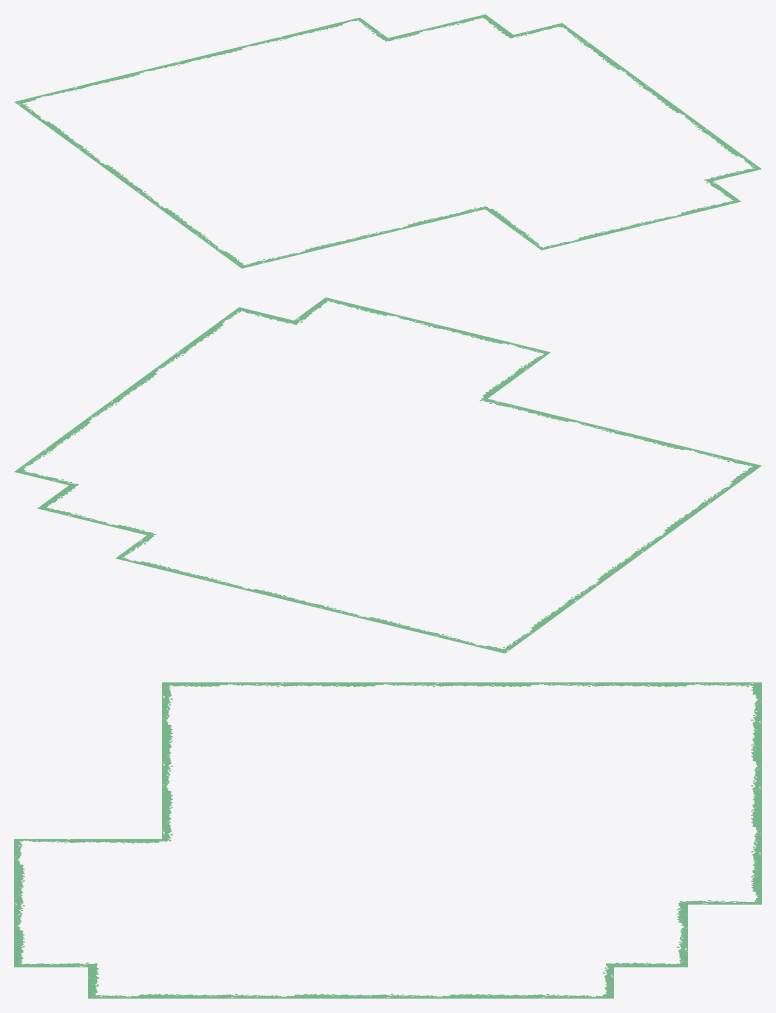
The model's file is Mesh_Home_RF_Gound_05_SM.fbx.
3 views of the same model, one above another, from view 1: azimuth 30°, elevation 25°; view 2: azimuth 150°, elevation 25°; view 3: azimuth 270°, elevation 25° (orthographic). The views are drawn at different scales.
Visible parts, largest first — view 1: Mesh_Home_RF_Gound_05; view 2: Mesh_Home_RF_Gound_05; view 3: Mesh_Home_RF_Gound_05.
Part boxes in pixels (x1,y1,x2,y2): Mesh_Home_RF_Gound_05: (14, 14, 761, 268); Mesh_Home_RF_Gound_05: (14, 297, 761, 653); Mesh_Home_RF_Gound_05: (14, 682, 761, 998).
Size of the model in its own units: 3032 by 0.000137 by 3032.
Materials: 1 (1 with a texture image).
